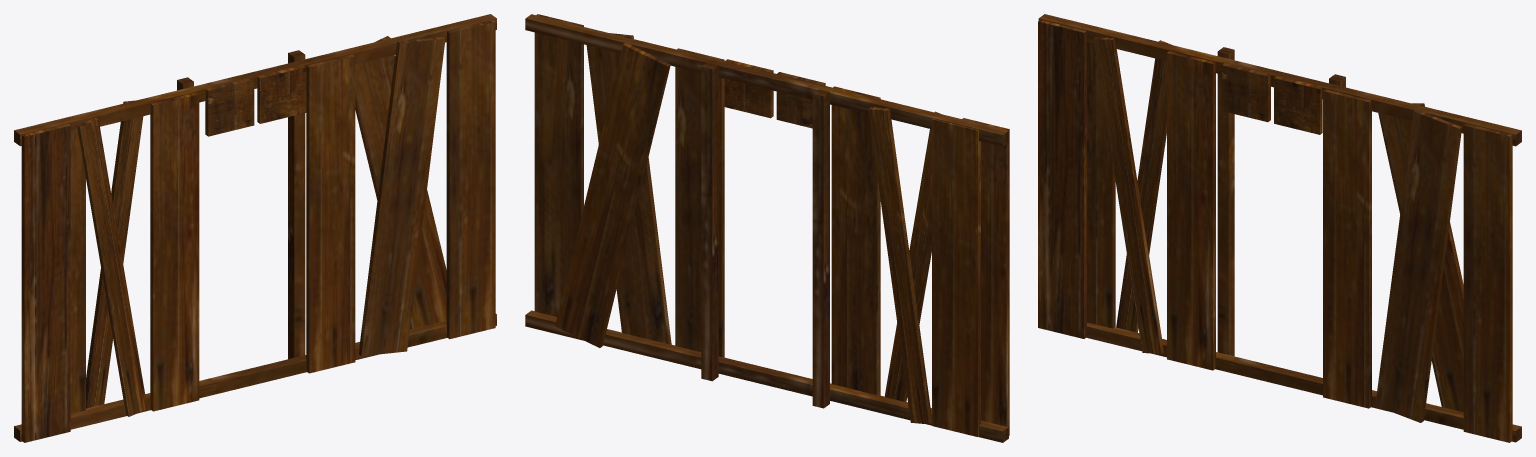
The model's file is shackWall1.fbx.
The picture shows the model from 3 angles, left to right: view 1: azimuth 30°, elevation 25°; view 2: azimuth 150°, elevation 25°; view 3: azimuth 330°, elevation 25°; orthographic projection.
Parts seen in each view (by area): view 1: ShackDoorway; view 2: ShackDoorway; view 3: ShackDoorway.
Part boxes in pixels (x1,y1,x2,y2): ShackDoorway: (14, 14, 496, 442); ShackDoorway: (525, 14, 1009, 442); ShackDoorway: (1038, 14, 1521, 442).
Bounding box in the file's own units: 408 × 255 × 24.54.
1 material, 1 textured.
